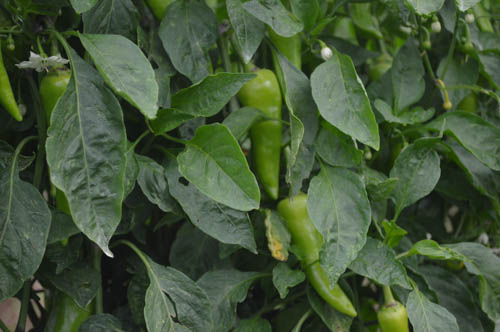ChiliPepper: (281, 196, 354, 315), (242, 71, 280, 196), (377, 307, 406, 331)
